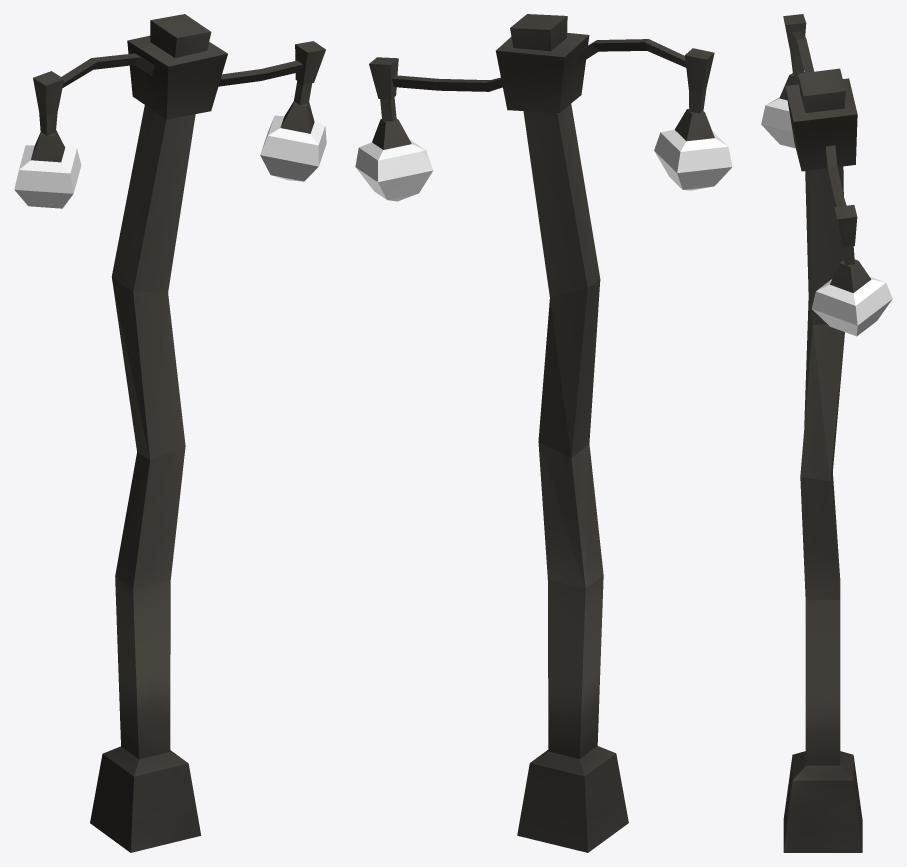
File: streetLamp.obj
The picture shows the model from 3 angles, left to right: view 1: azimuth 30°, elevation 25°; view 2: azimuth 150°, elevation 25°; view 3: azimuth 270°, elevation 25°; orthographic projection. The views are drawn at different scales.
Parts seen in each view (by area): view 1: StreetLamp; view 2: StreetLamp; view 3: StreetLamp.
Part boxes in pixels (x1,y1,x2,y2): StreetLamp: (14,14,326,852); StreetLamp: (355,14,732,852); StreetLamp: (761,14,892,852).
Size of the model in its own units: 6.67 by 14.8 by 2.28.
